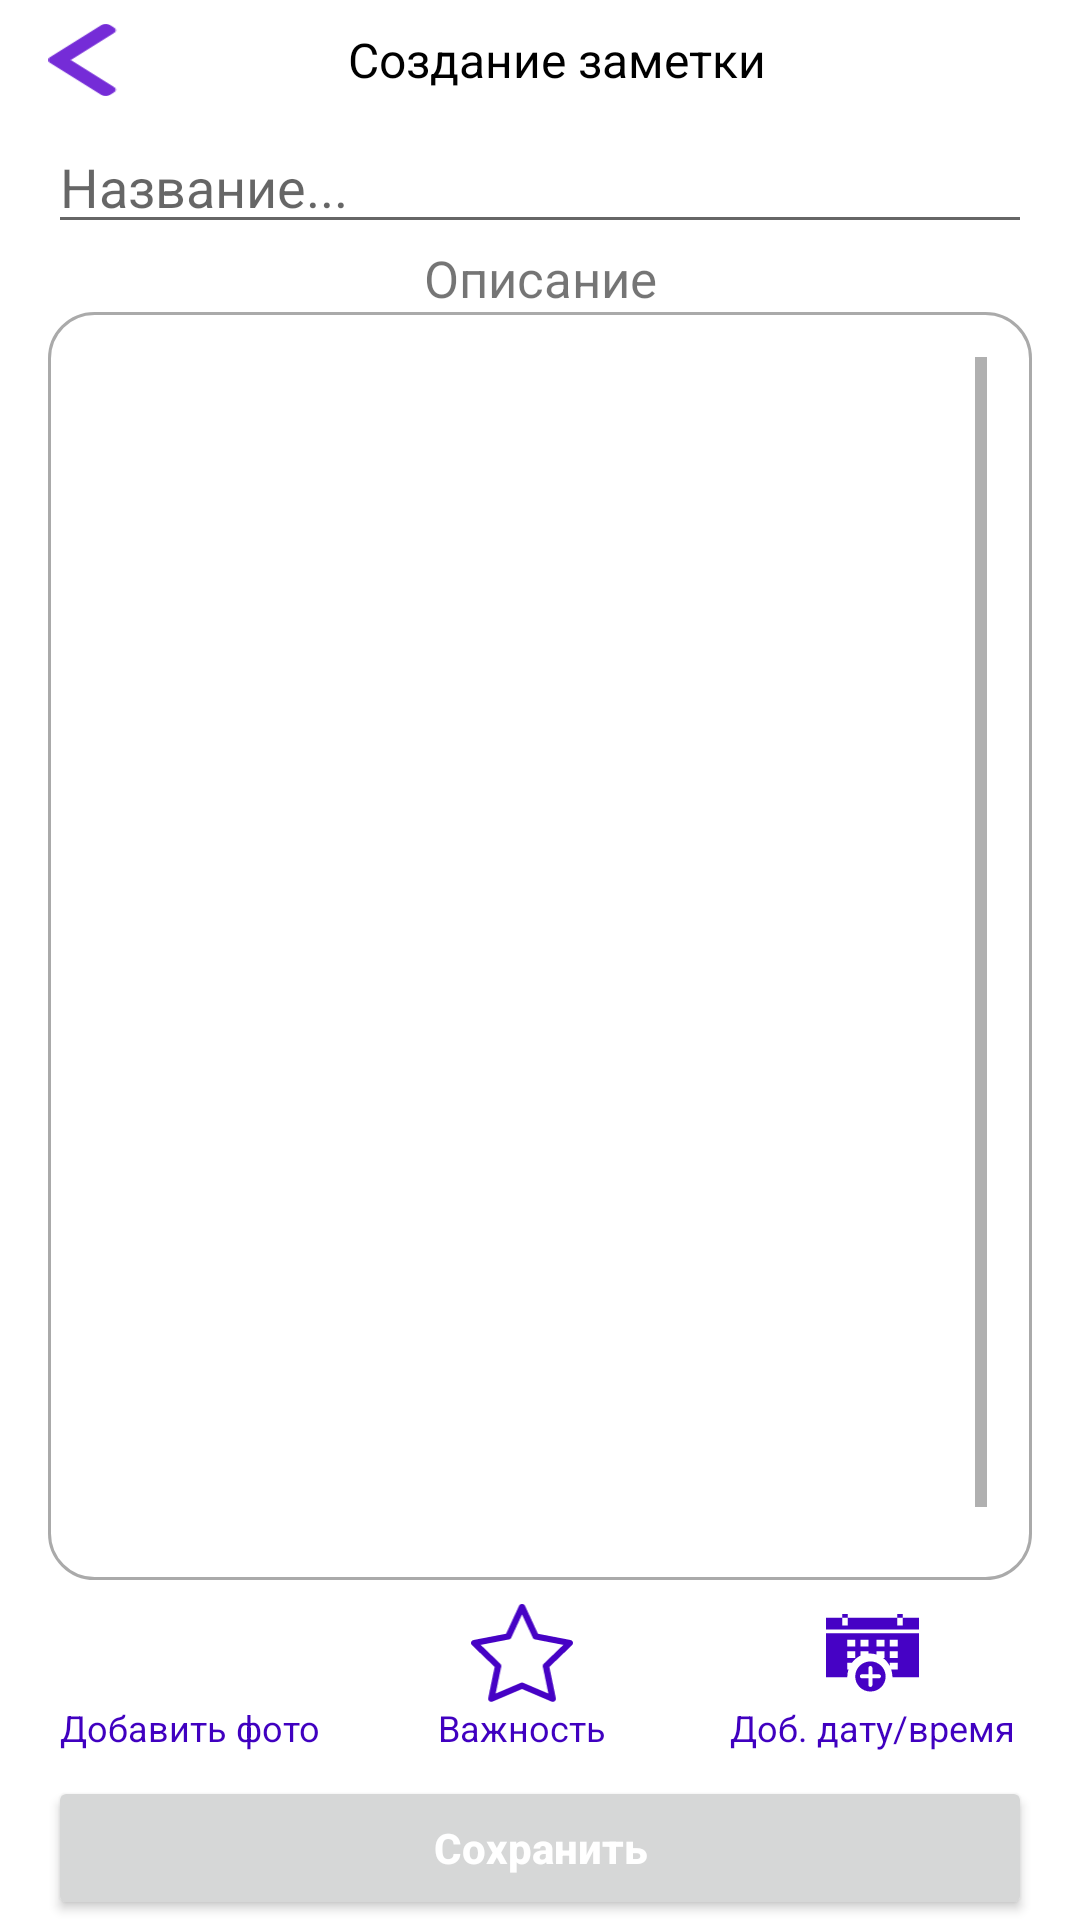

Icon click points for this 1080×1920 phone screenshot, format [x,y]:
add calendar: [872,1653]
star in add notes: [522,1653]
